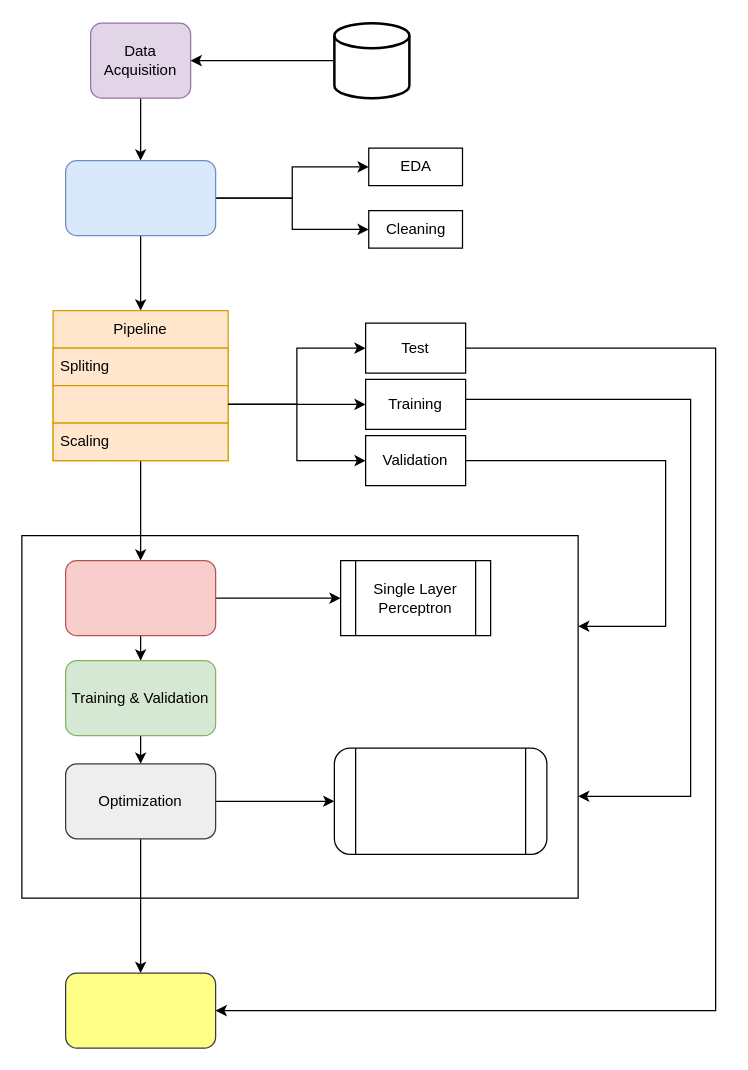
Some shapes in this 748 by 1070 pixel diagram are drawn without their labels. The centre of each missing label's shape, as x and y in pixels:
"Data Preprocessing" belongs at point (140, 197).
"Hyper-Parameter - Learning Rate - Batch Size - Epochs - Early Stopping" belongs at point (440, 800).
"Imputation" belongs at point (140, 403).
"Model Evaluation" belongs at point (140, 1010).
"Model Initialization" belongs at point (140, 597).
"PIDD" belongs at point (371, 60).
